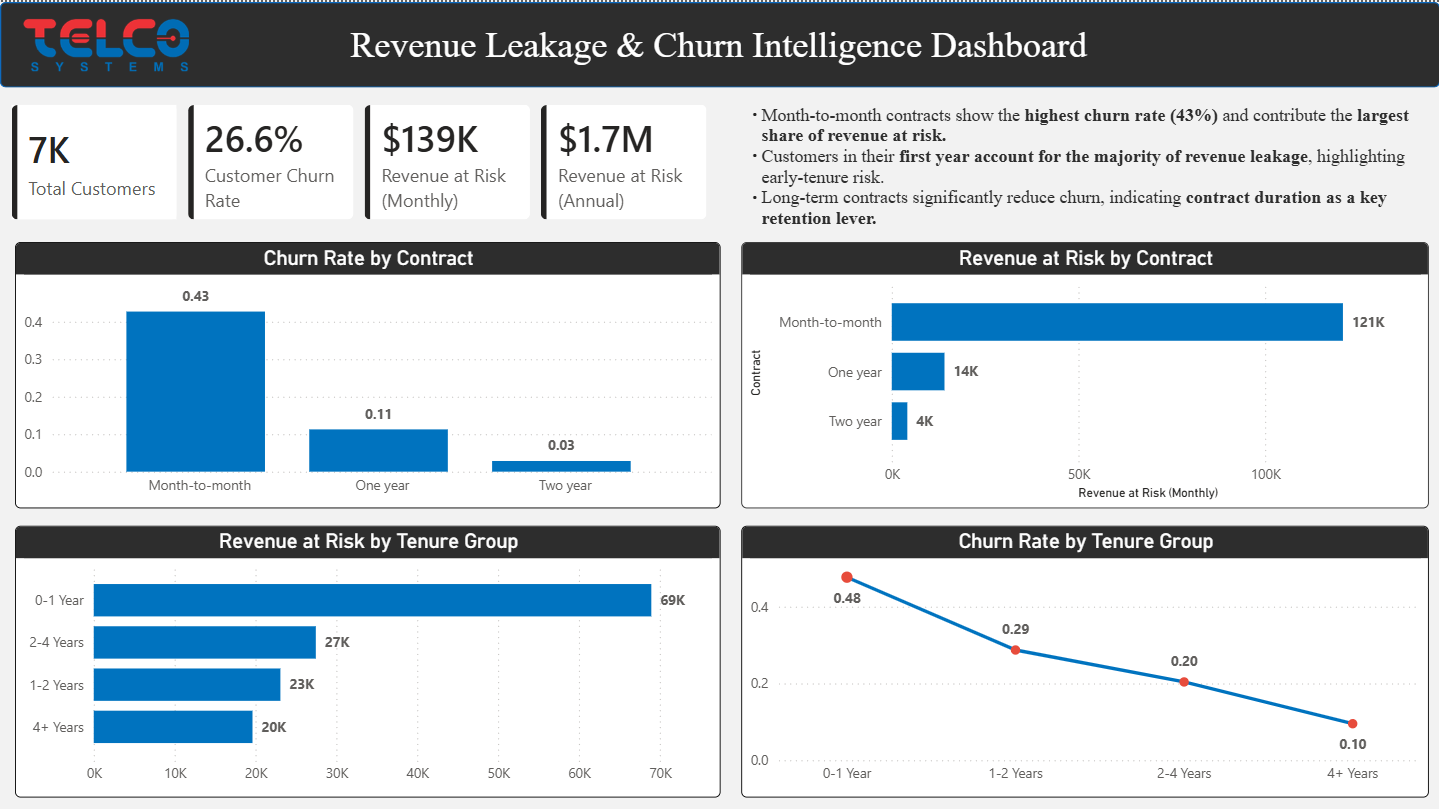

The page's visual inventory and layout, read from the dashboard file:
{"tool":"powerbi","page":{"name":"Executive Overview","canvas":[1280,720],"ordinal":0},"visuals":[{"type":"shape","box":[0,0,1280,76],"z":0},{"type":"textbox","box":[227.1,14.3,824.3,51.4],"z":1000},{"type":"cardVisual","fields":{"Data":["CountNonNull(revenue_leakage telco_churn.tenure)","Avg(revenue_leakage telco_churn.Churn)","Sum(revenue_leakage telco_churn.RevenueLost)","revenue_leakage telco_churn.Annual Revenue Leakage"]},"box":[0,81.2,638.8,122.5],"z":2000},{"type":"clusteredColumnChart","title":"Churn Rate by Contract","fields":{"Category":["revenue_leakage telco_churn.Contract"],"Y":["Avg(revenue_leakage telco_churn.Churn)"]},"box":[12.9,212.9,627.1,237.1],"z":3000},{"type":"clusteredBarChart","title":"Revenue at Risk by Tenure Group","fields":{"Category":["revenue_leakage telco_churn.TenureGroup"],"Y":["Sum(revenue_leakage telco_churn.RevenueLost)"]},"box":[12.9,465.7,627.1,241.4],"z":4000},{"type":"lineChart","title":"Churn Rate by Tenure Group","fields":{"Category":["revenue_leakage telco_churn.TenureGroup"],"Y":["Avg(revenue_leakage telco_churn.Churn)"]},"box":[658.6,465.7,611.4,241.4],"z":5000},{"type":"barChart","title":"Revenue at Risk by Contract","fields":{"Category":["revenue_leakage telco_churn.Contract"],"Y":["Sum(revenue_leakage telco_churn.RevenueLost)"]},"box":[658.6,212.9,611.4,237.1],"z":6000},{"type":"image","box":[0,14.3,188.6,56.1],"z":7000},{"type":"textbox","box":[658.6,87.9,611.4,115.7],"z":8000}]}

Visuals, with their boxes in screenshot pixels (x1, y1, x2, y2), scaled from the page's 1280x720 canvas onto the 1439x809 screenshot:
shape: <box>0,0,1438,85</box>
textbox: <box>255,16,1182,74</box>
cardVisual - CountNonNull(revenue_leakage telco_churn.tenure) x Avg(revenue_leakage telco_churn.Churn): <box>0,91,718,229</box>
"Churn Rate by Contract" clusteredColumnChart: <box>15,239,720,506</box>
"Revenue at Risk by Tenure Group" clusteredBarChart: <box>15,523,720,795</box>
"Churn Rate by Tenure Group" lineChart: <box>740,523,1428,795</box>
"Revenue at Risk by Contract" barChart: <box>740,239,1428,506</box>
image: <box>0,16,212,79</box>
textbox: <box>740,99,1428,229</box>
